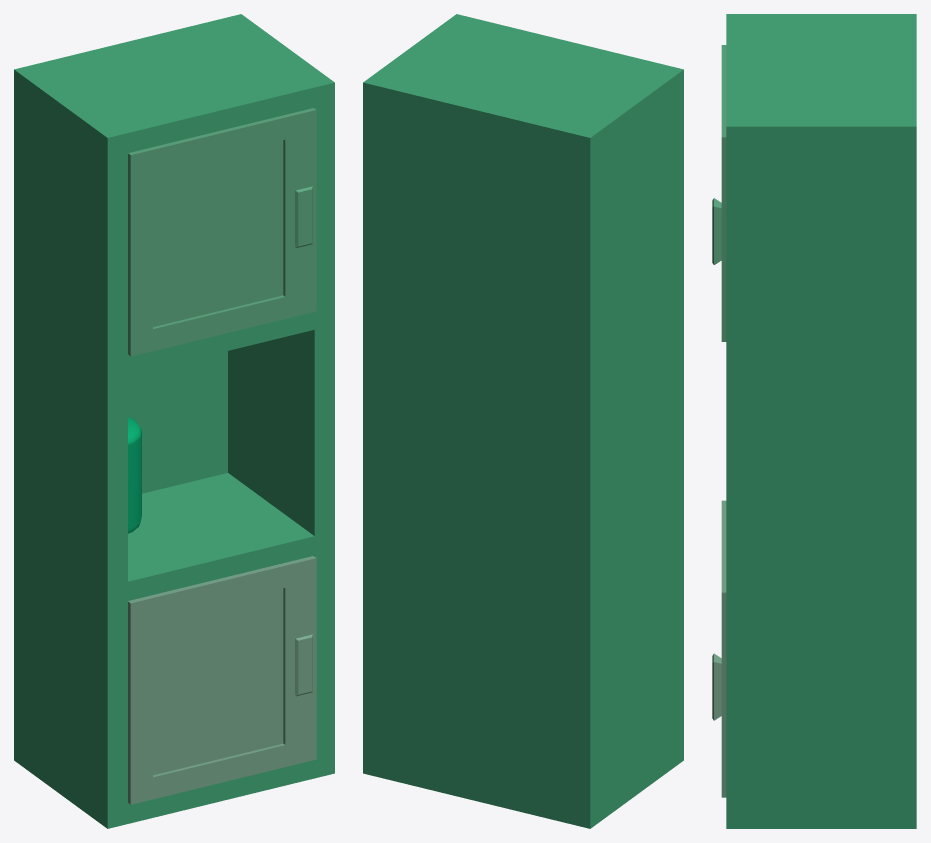
Rendered from INTE_Prateleira Esquerda.fbx.
The picture shows the model from 3 angles, left to right: view 1: azimuth 30°, elevation 25°; view 2: azimuth 150°, elevation 25°; view 3: azimuth 270°, elevation 25°; orthographic projection.
Visible parts, largest first — view 1: Estrutura, PortaBaixo, PortaCima, Pote; view 2: Estrutura; view 3: Estrutura, PortaBaixo, PortaCima.
Part boxes in pixels (x1,y1,x2,y2): Estrutura: [14, 14, 334, 828]; PortaBaixo: [128, 556, 316, 804]; PortaCima: [128, 108, 316, 356]; Pote: [128, 417, 141, 533]; Estrutura: [363, 14, 683, 828]; Estrutura: [726, 14, 916, 828]; PortaBaixo: [712, 500, 726, 797]; PortaCima: [712, 45, 726, 341].
Size of the model in its own units: 6.45 by 18.74 by 4.95.
